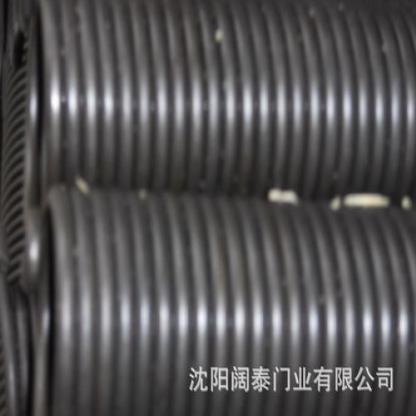FOD: (24, 188, 415, 415), (23, 4, 415, 186)
